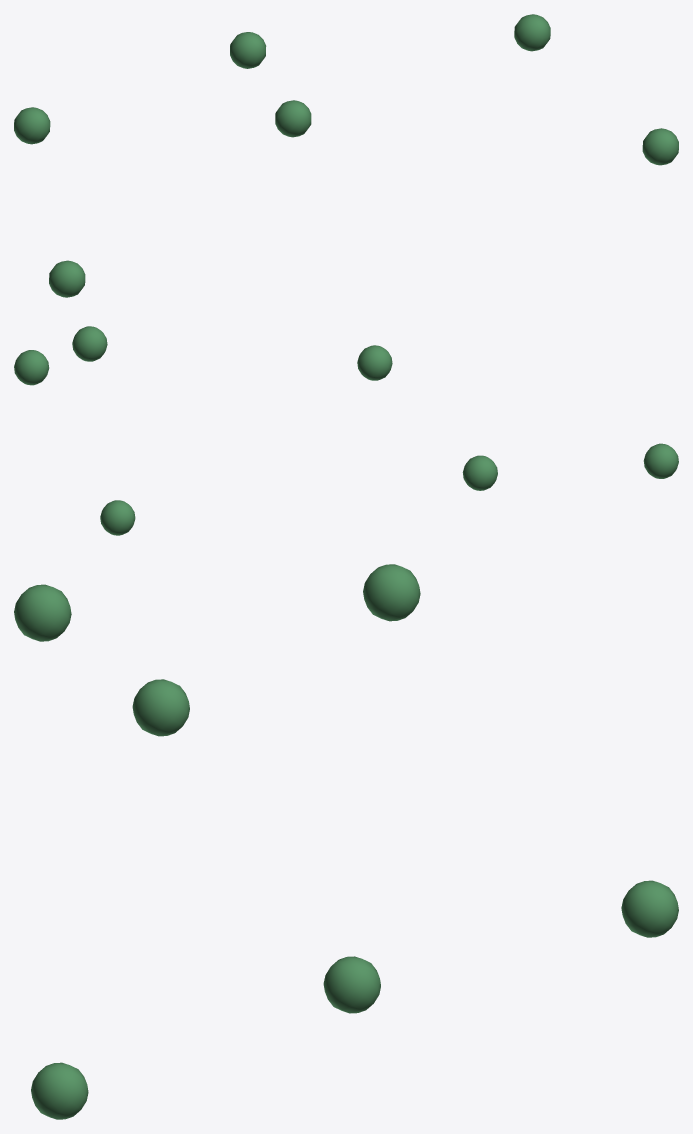
3 views of the same model, one above another, from view 1: azimuth 30°, elevation 25°; view 2: azimuth 150°, elevation 25°; view 3: azimuth 270°, elevation 25° (orthographic). The views are drawn at different scales.
Visible parts, largest first — view 1: 膀胱后淋巴结; view 2: 膀胱后淋巴结; view 3: 膀胱后淋巴结.
Part boxes in pixels (<box>): 膀胱后淋巴结: <box>14,14,678,297</box>; 膀胱后淋巴结: <box>14,326,678,535</box>; 膀胱后淋巴结: <box>14,564,678,1119</box>.
Size of the model in its own units: 0.0743 by 0.0135 by 0.044.
